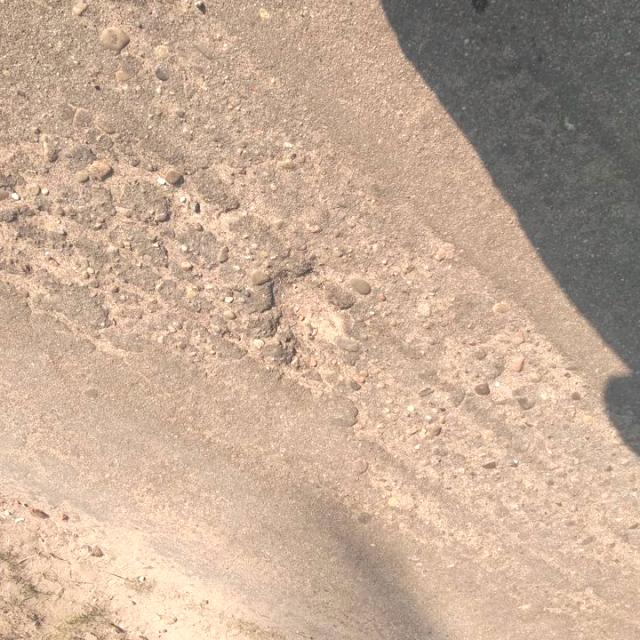pothole: (196, 211, 450, 378), (0, 125, 204, 308), (338, 292, 546, 426), (74, 296, 159, 354)
